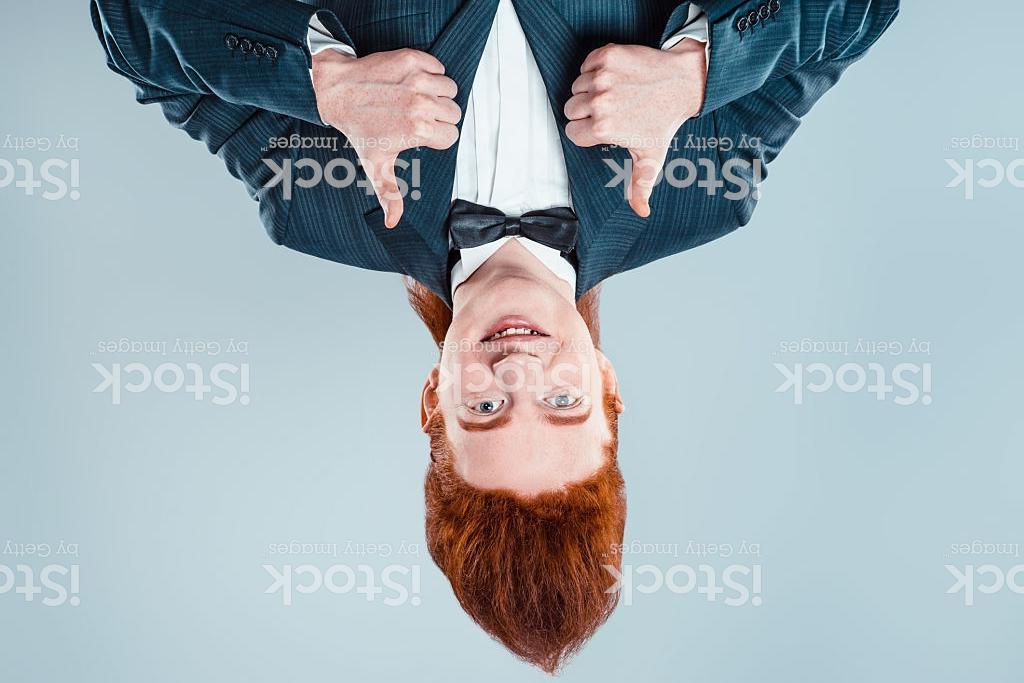thumbsdown: (563, 39, 664, 222), (368, 41, 465, 231)
